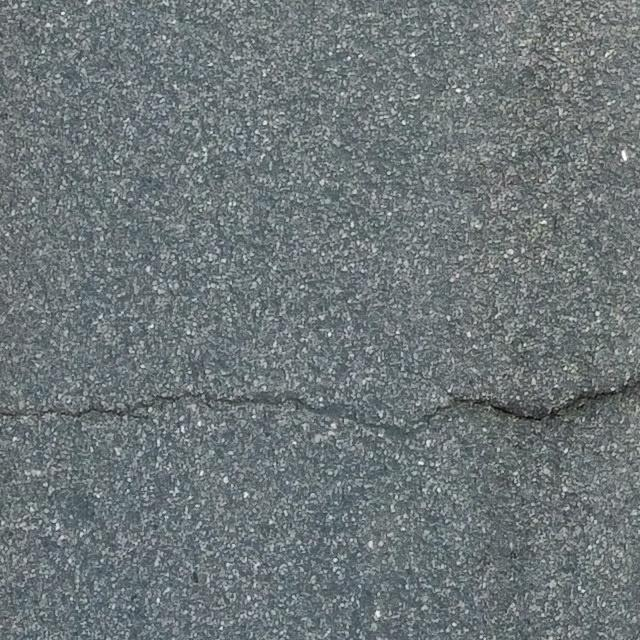TransverseCrack: (1, 383, 640, 432)
